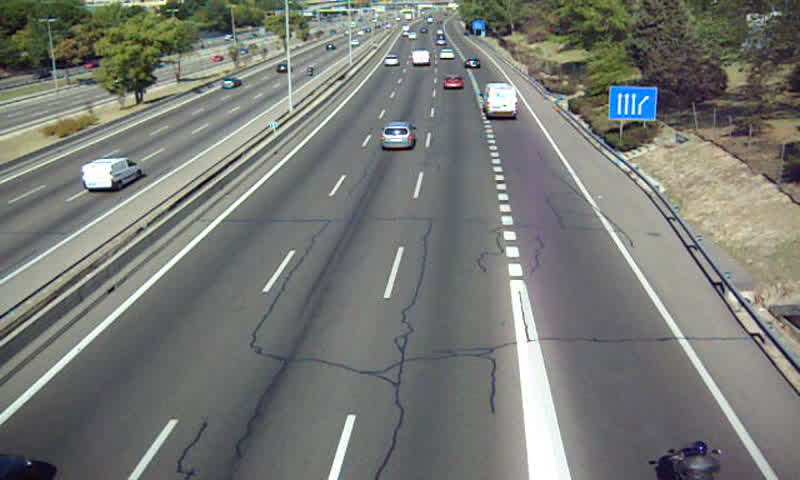car: (381, 122, 416, 150), (441, 74, 463, 92), (464, 56, 482, 71), (384, 55, 398, 68), (440, 48, 455, 60)
van: (483, 83, 517, 117), (411, 49, 429, 65)
